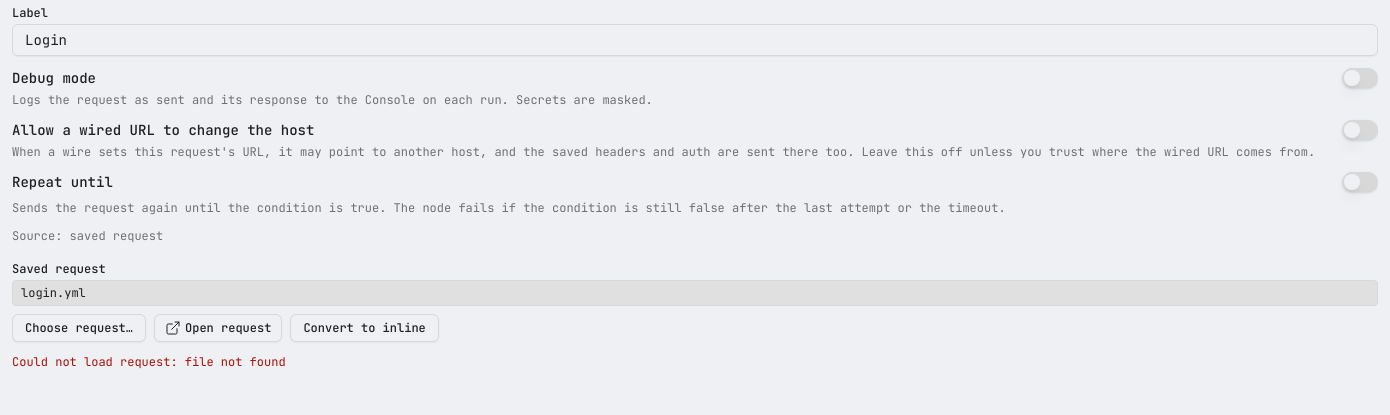
it: RequestNodeEditor › shows a load error and changes nothing
This screenshot has width=1390, height=415.
Click the button "Convert to inline" at (365, 328), box x1=290 y1=314 x2=439 y2=342
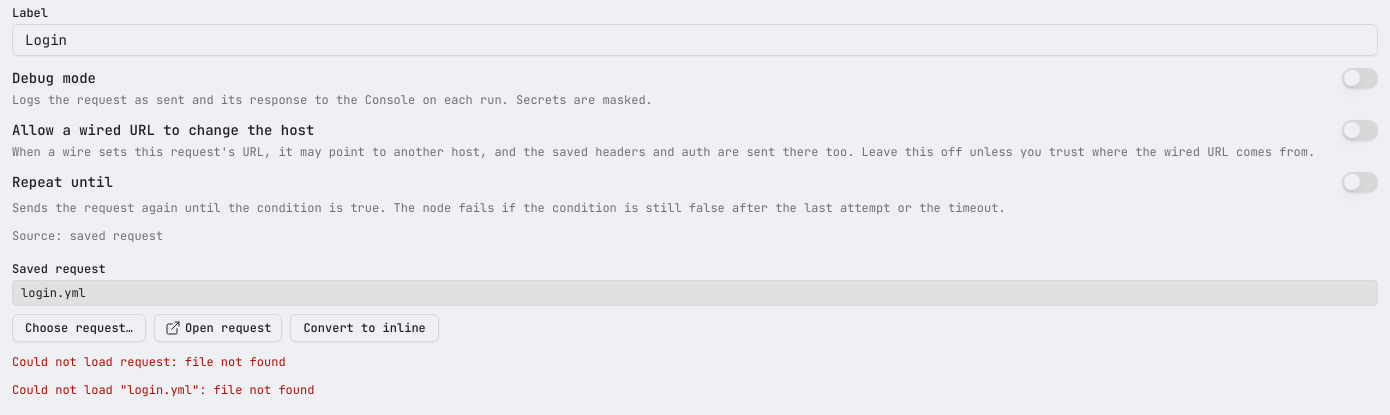
Expected: the message reads "Could not load \"login.yml\": file not found", x1=12 y1=382 x2=314 y2=398
